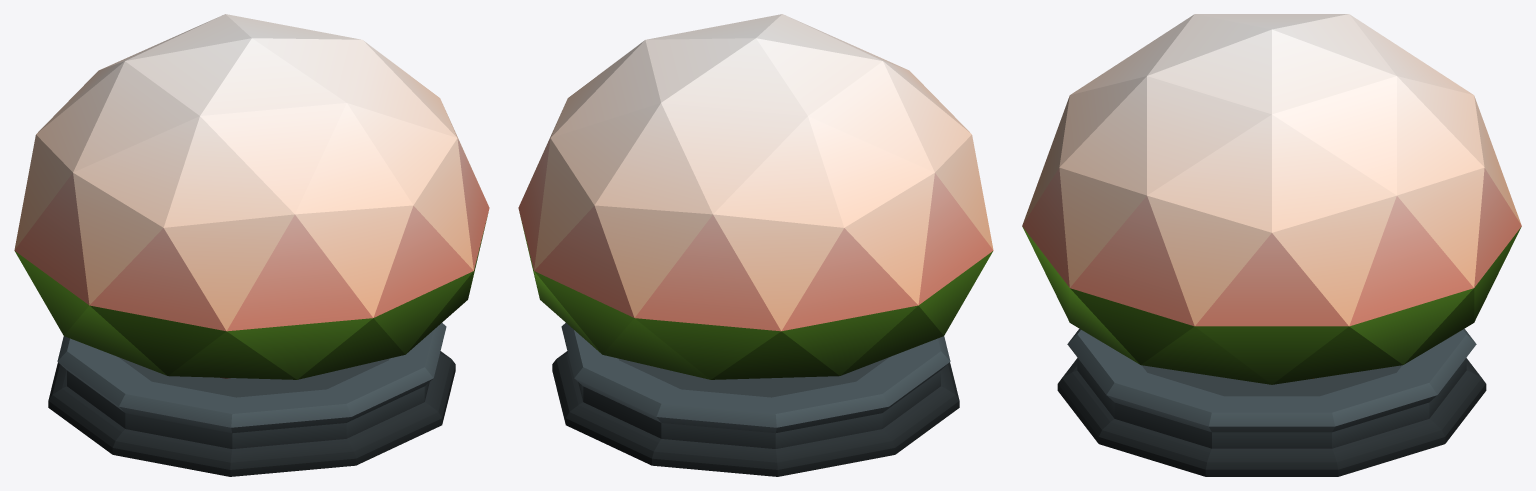
The model's file is FlatVase_White.fbx.
3 renders of one model, left to right at view 1: azimuth 30°, elevation 25°; view 2: azimuth 150°, elevation 25°; view 3: azimuth 270°, elevation 25°, orthographic. The views are drawn at different scales.
Visible parts, largest first — view 1: FlatVase_White; view 2: FlatVase_White; view 3: FlatVase_White.
Boxes of the visible parts, x1,y1,x2,y2 form: FlatVase_White: (14, 14, 489, 476); FlatVase_White: (518, 14, 993, 476); FlatVase_White: (1022, 14, 1521, 476).
Bounding box in the file's own units: 280 × 235 × 294.
